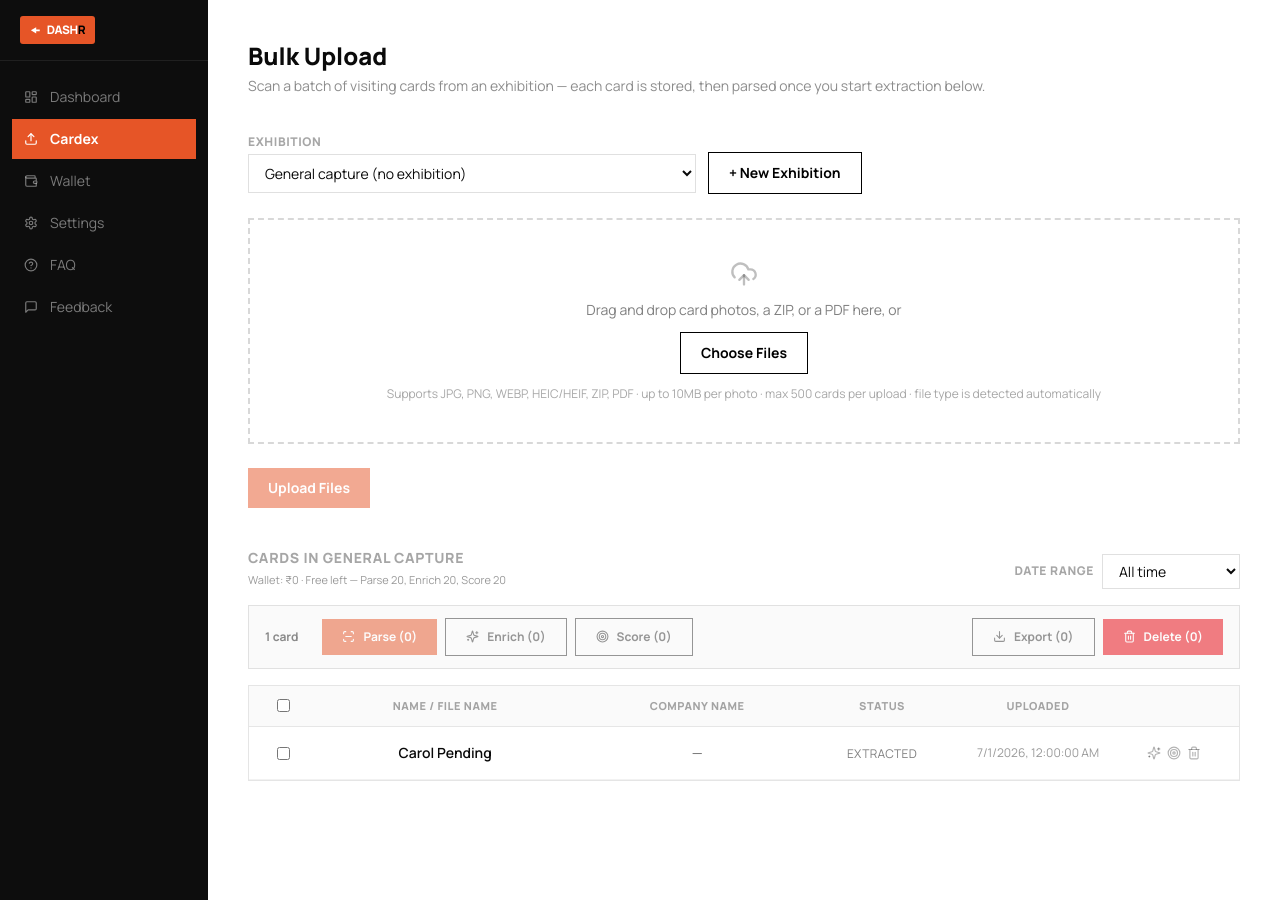
Test: Upload page per-row action blocked by the wallet › shows the backend's message when a per-row enrich action returns 402
expect the text "Carol Pending" is shown: met, box [398,743,492,762]
Click the button named "Enrich company" at {"x": 1154, "y": 753}, box [1147,746,1161,760]
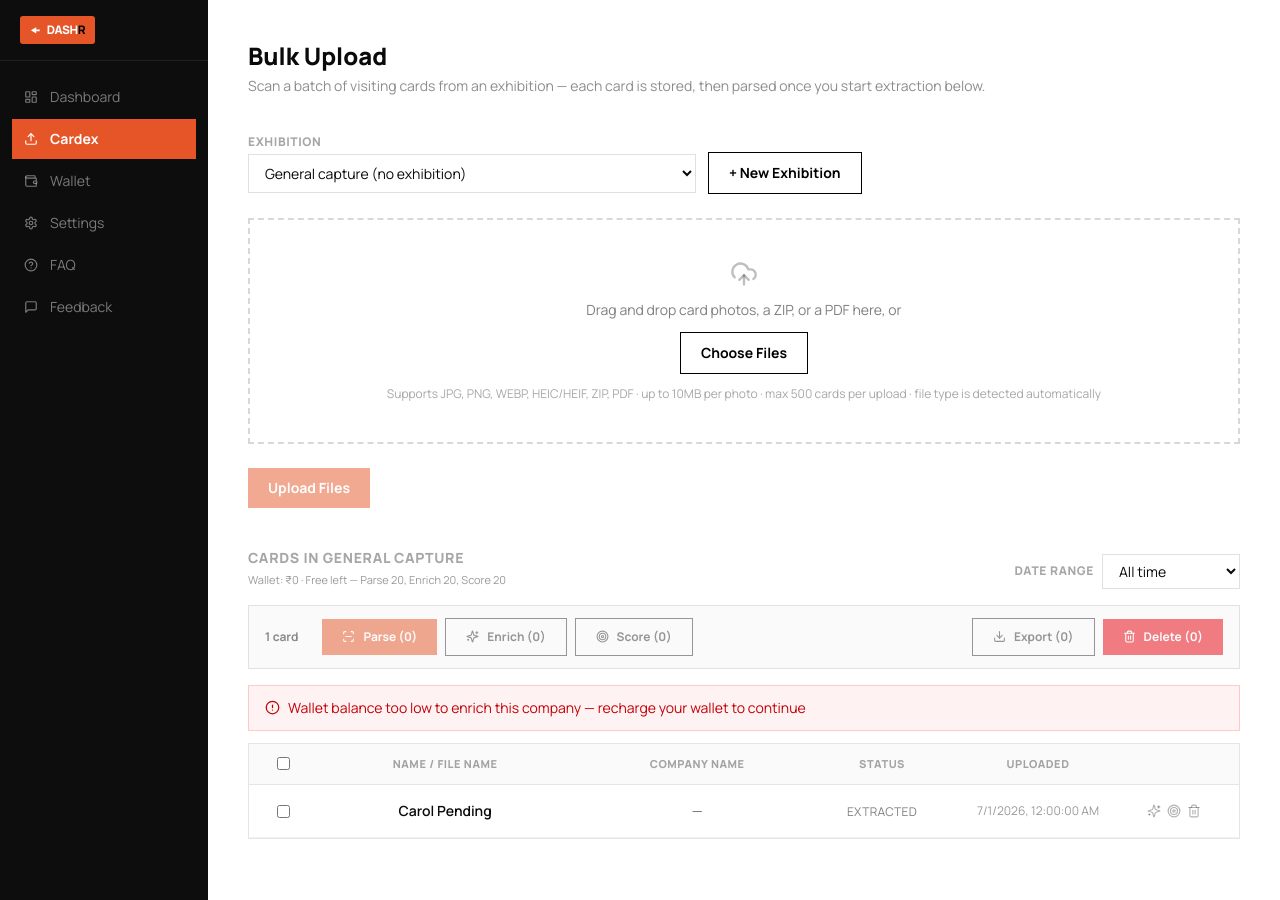
expect the text "Wallet balance too low to enrich this company" is shown: met, box [288,698,806,716]
